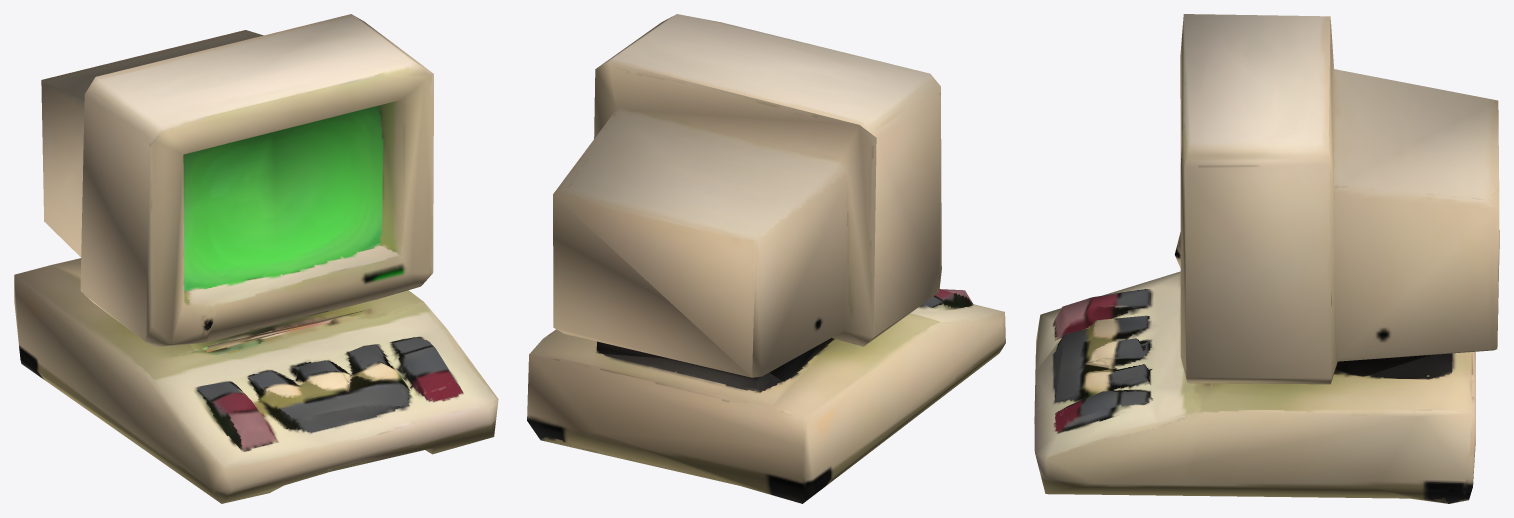
The model's file is beige-terminal.glb.
3 renders of one model, left to right at view 1: azimuth 30°, elevation 25°; view 2: azimuth 150°, elevation 25°; view 3: azimuth 270°, elevation 25°, orthographic. The views are drawn at different scales.
Parts seen in each view (by area): view 1: geometry_0.001; view 2: geometry_0.001; view 3: geometry_0.001.
Part boxes in pixels (bbox=[...]): geometry_0.001: bbox=[14, 14, 498, 503]; geometry_0.001: bbox=[527, 14, 1005, 503]; geometry_0.001: bbox=[1034, 14, 1499, 503].
Bounding box in the file's own units: 0.7523 × 0.8373 × 0.9952.
Materials: 1 (1 with a texture image).
